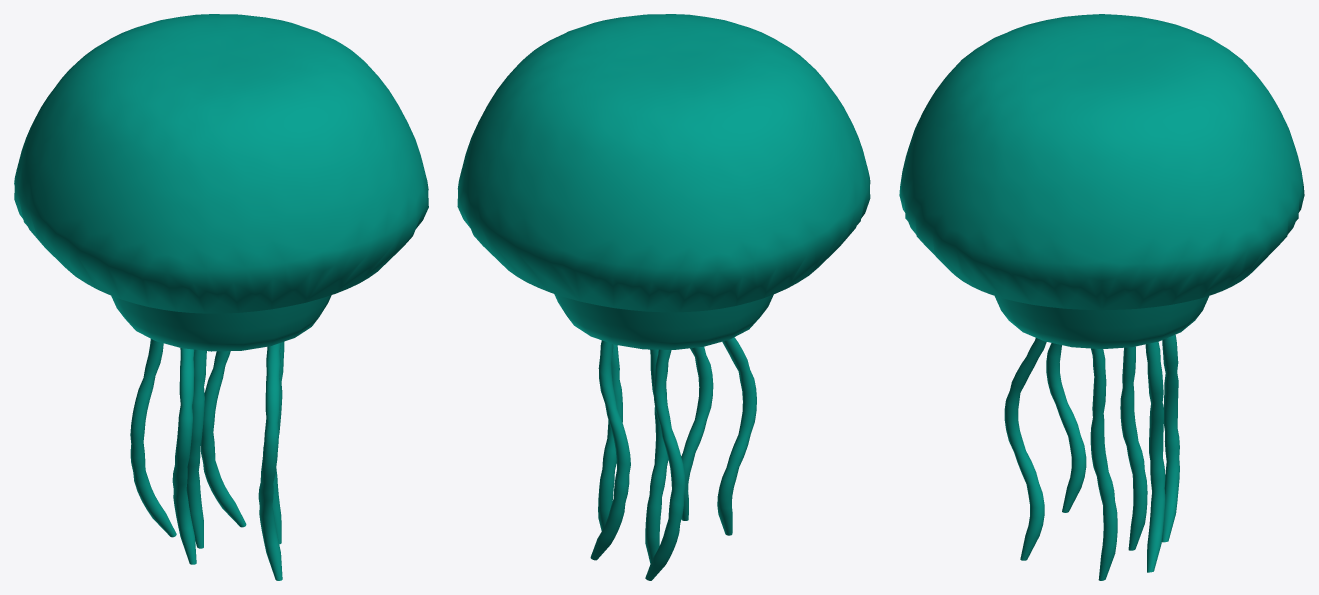
The model's file is Jellyfish.fbx.
The picture shows the model from 3 angles, left to right: view 1: azimuth 30°, elevation 25°; view 2: azimuth 150°, elevation 25°; view 3: azimuth 270°, elevation 25°; orthographic projection.
Visible parts, largest first — view 1: Jellyfish; view 2: Jellyfish; view 3: Jellyfish.
Part boxes in pixels (left/top/right/bottom): Jellyfish: left=14, top=14, right=428, bottom=580; Jellyfish: left=457, top=14, right=870, bottom=580; Jellyfish: left=899, top=14, right=1304, bottom=580.
Bounding box in the file's own units: 4.35 × 5.91 × 4.35.
